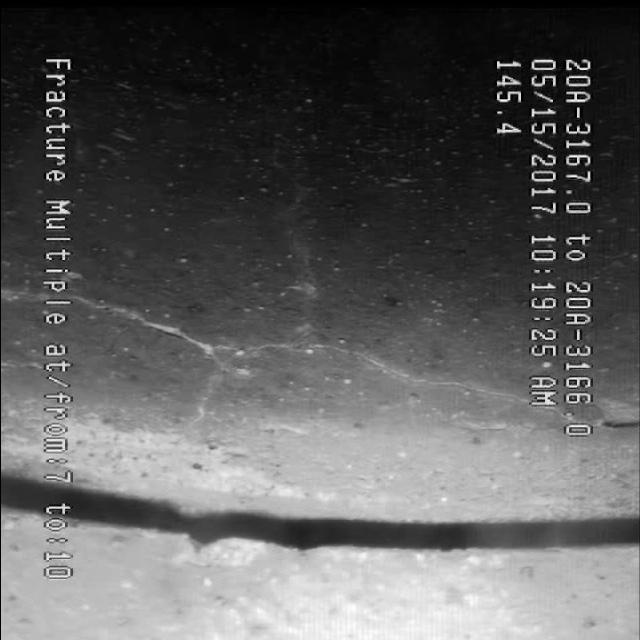Crack: (128, 312, 482, 408)
